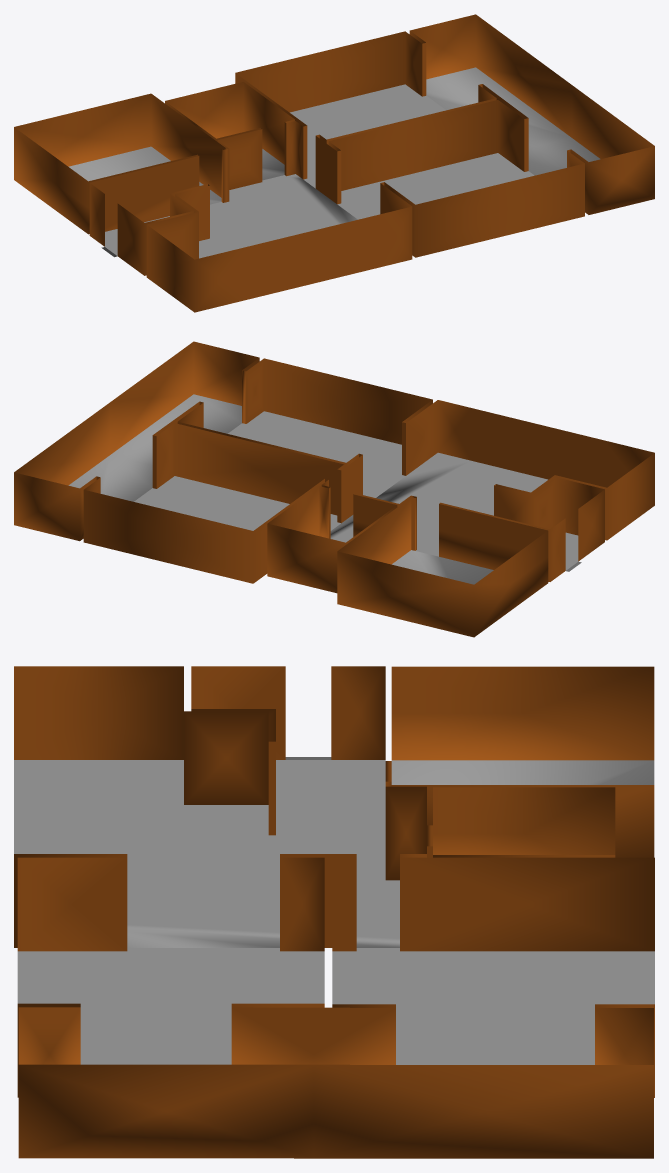
3 renders of one model, top to bottom at view 1: azimuth 30°, elevation 25°; view 2: azimuth 150°, elevation 25°; view 3: azimuth 270°, elevation 25°, orthographic. The views are drawn at different scales.
Visible parts, largest first — view 1: Plane002; view 2: Plane002; view 3: Plane002.
Boxes of the visible parts, bbox=[...] form: Plane002: bbox=[14, 14, 654, 312]; Plane002: bbox=[14, 341, 654, 637]; Plane002: bbox=[14, 666, 654, 1158].
Size of the model in its own units: 1566 by 170 by 1055.
